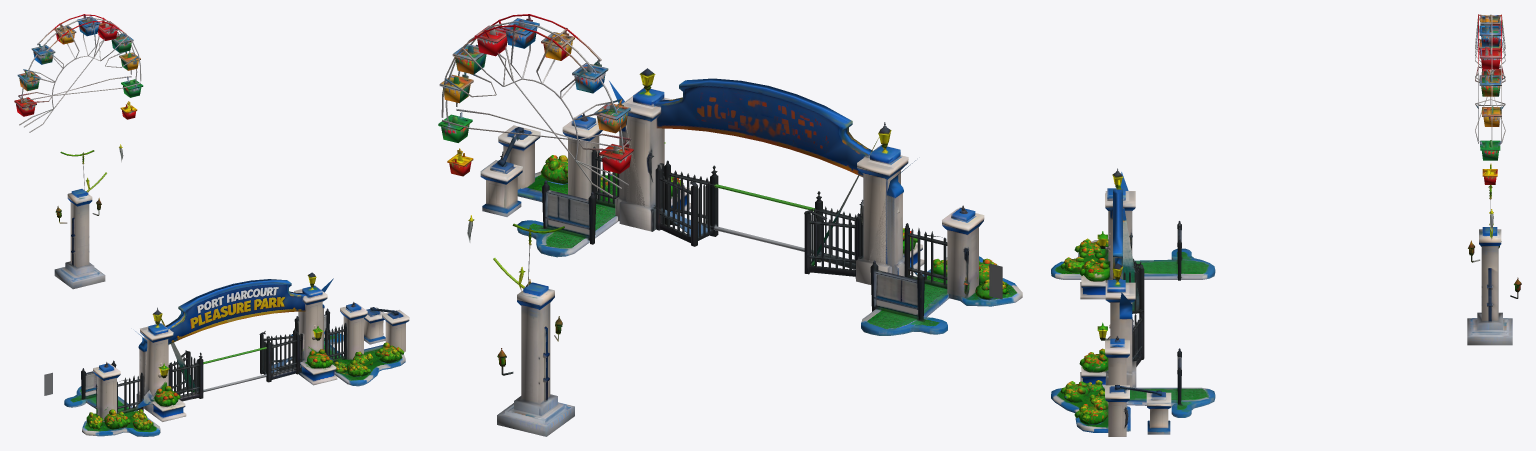
File: amusement park 3d model.fbx
The picture shows the model from 3 angles, left to right: view 1: azimuth 30°, elevation 25°; view 2: azimuth 150°, elevation 25°; view 3: azimuth 270°, elevation 25°; orthographic projection. The views are drawn at different scales.
Parts seen in each view (by area): view 1: tripo_node_cd2678a6; view 2: tripo_node_cd2678a6; view 3: tripo_node_cd2678a6.
Boxes of the visible parts, left/top/right/bottom form: tripo_node_cd2678a6: left=14, top=14, right=409, bottom=436; tripo_node_cd2678a6: left=438, top=14, right=1022, bottom=436; tripo_node_cd2678a6: left=1051, top=14, right=1521, bottom=436.
Size of the model in its own units: 0.9995 by 0.7241 by 0.9751.
